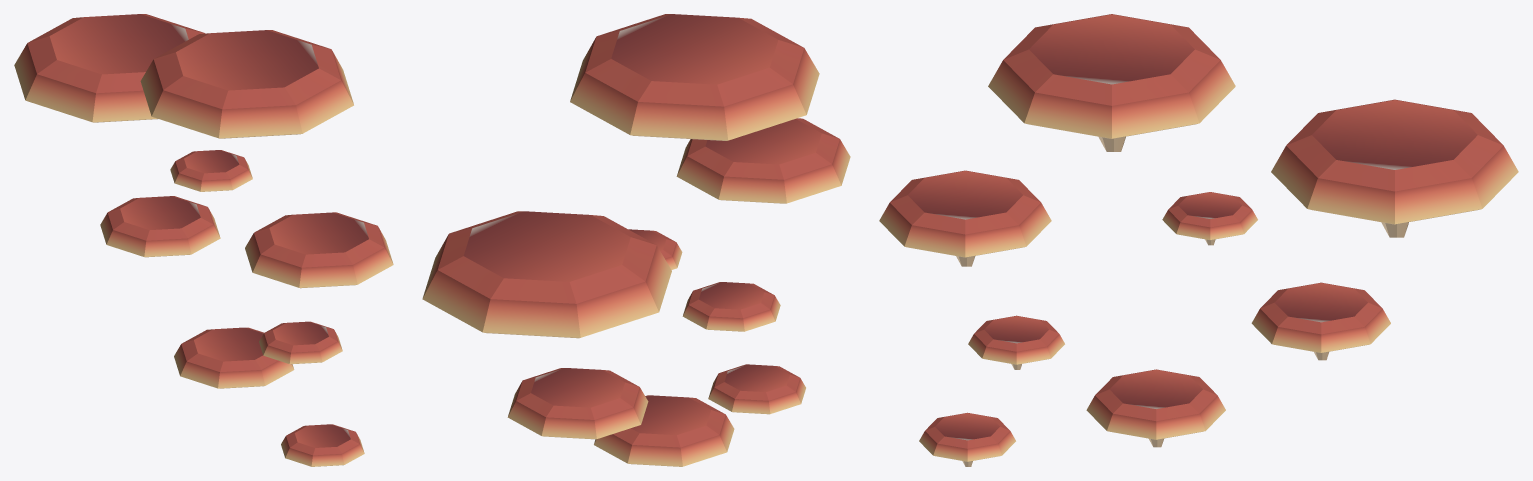
File: Grass_WallMushrooms_Wild01.fbx
3 views of the same model, side by side, from view 1: azimuth 30°, elevation 25°; view 2: azimuth 150°, elevation 25°; view 3: azimuth 270°, elevation 25° (orthographic). The views are drawn at different scales.
Parts seen in each view (by area): view 1: Cylinder.011; view 2: Cylinder.011; view 3: Cylinder.011.
Part boxes in pixels (x1=…): Cylinder.011: x1=14, y1=14, x2=393, y2=466; Cylinder.011: x1=422, y1=14, x2=850, y2=466; Cylinder.011: x1=879, y1=14, x2=1518, y2=466.
Bounding box in the file's own units: 42.11 × 75.42 × 109.
